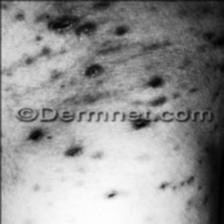Non-Cancerous Skin Condition: (0, 0, 224, 105), (12, 124, 217, 216)
